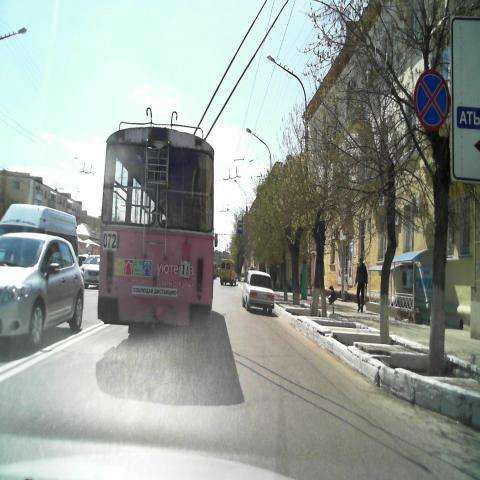3_27: (414, 70, 450, 130)
5_16: (237, 220, 243, 234)
